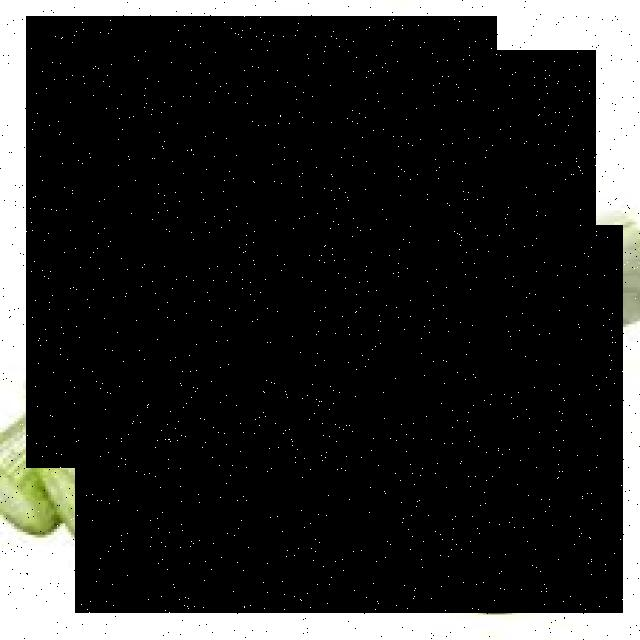Snake_Gourd: (75, 225, 623, 613), (27, 16, 497, 468), (292, 50, 596, 612)
